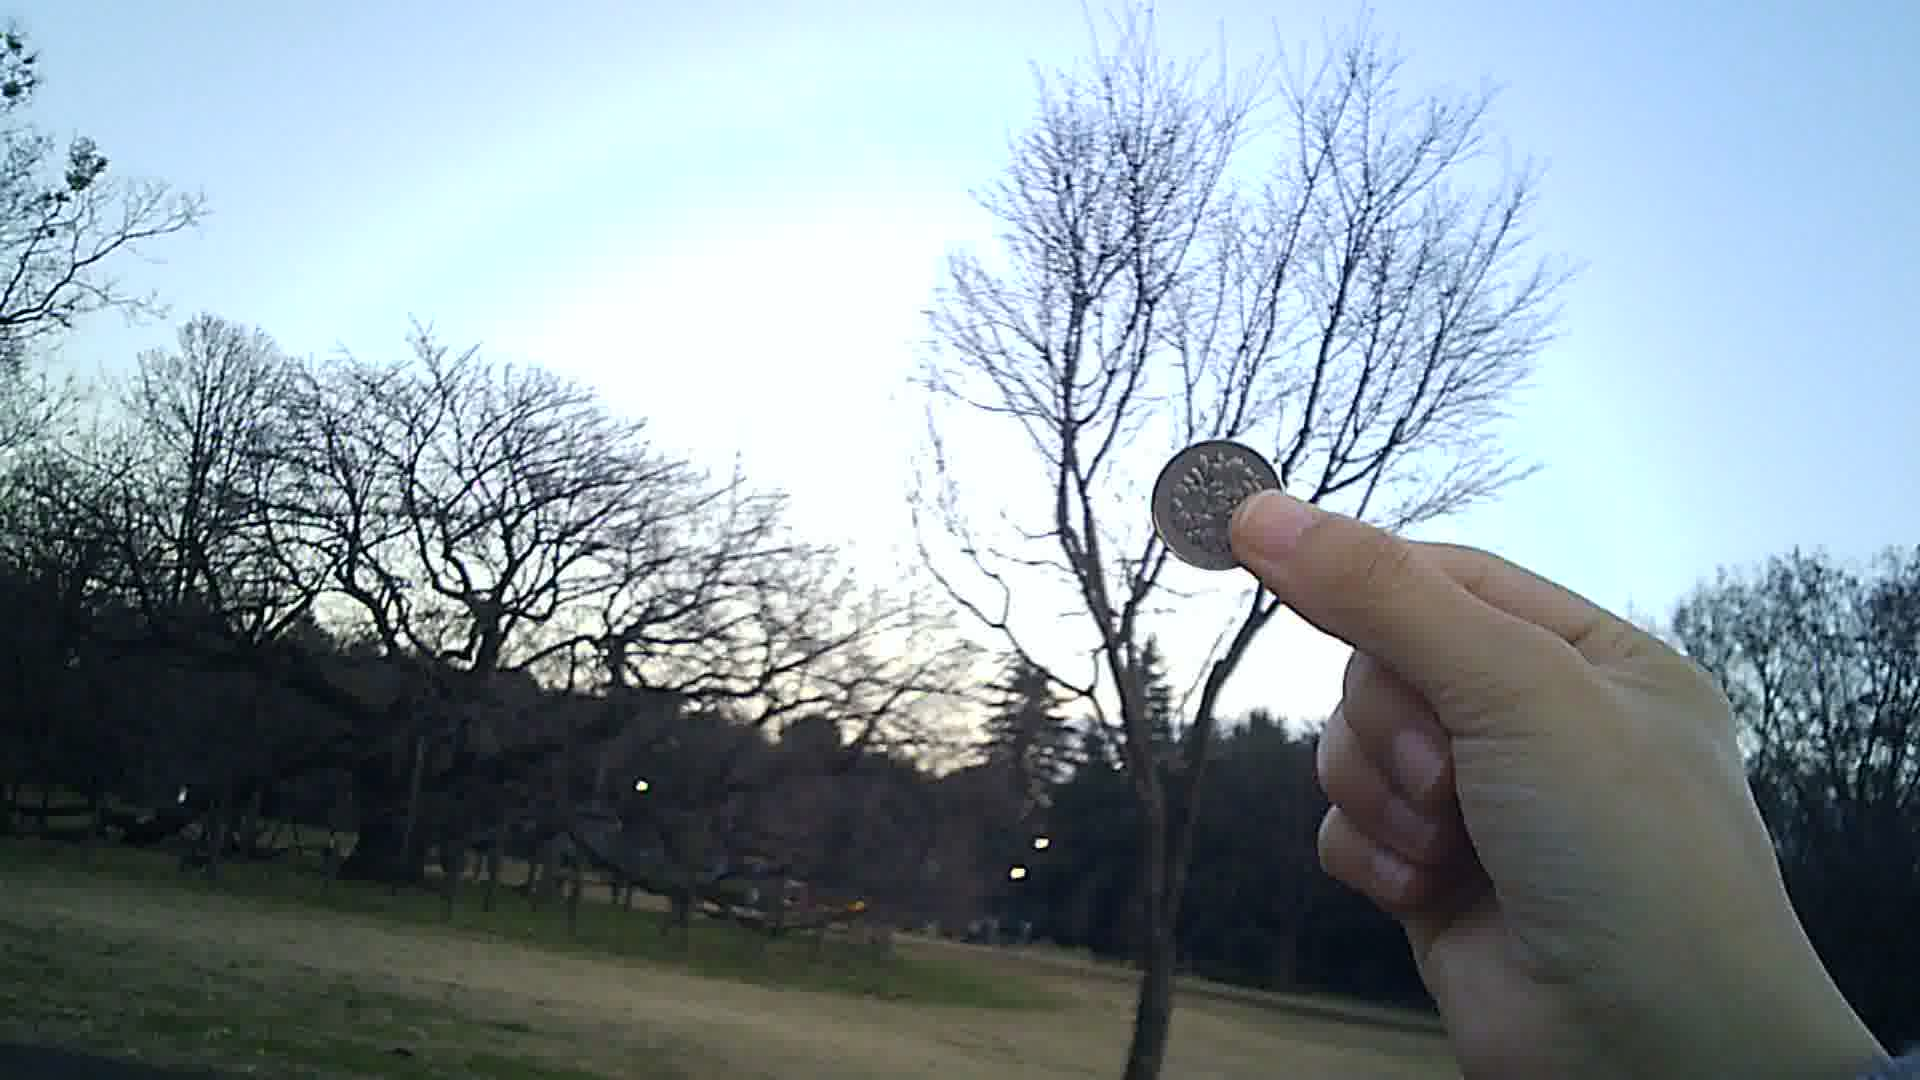100 Yen: (1153, 442, 1287, 568)
